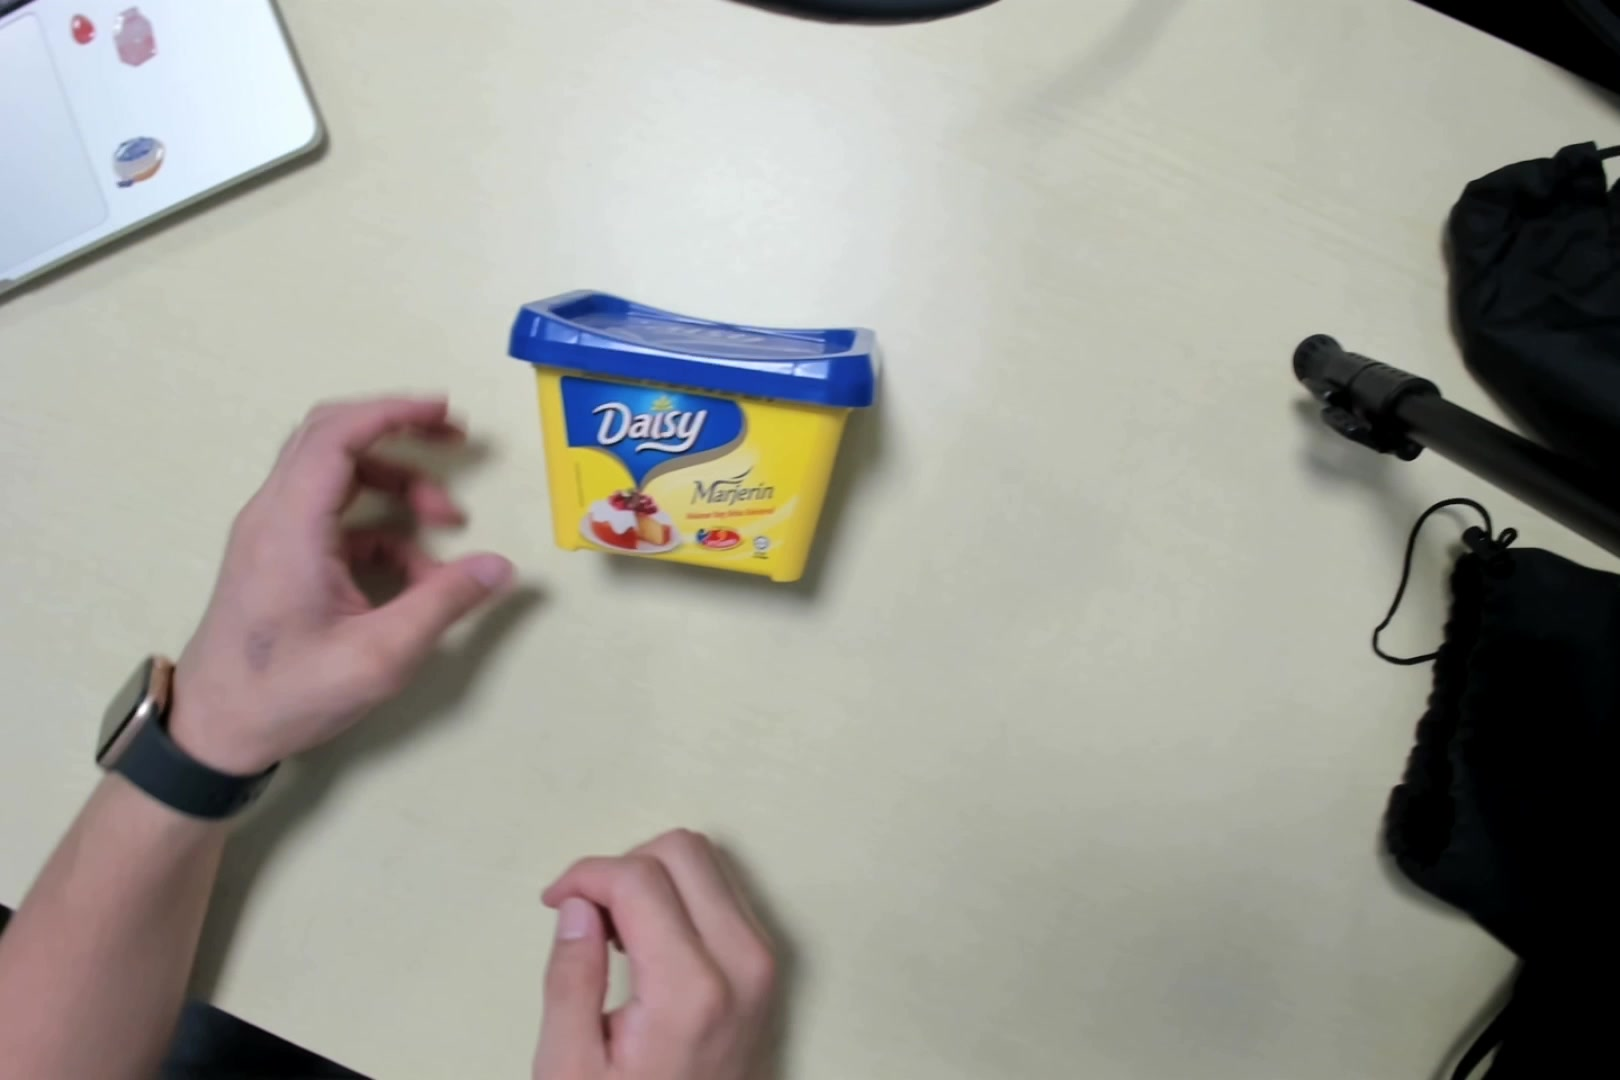OtherSpreads_400-499g_Halal_NonHealthy: (509, 275, 890, 589)
